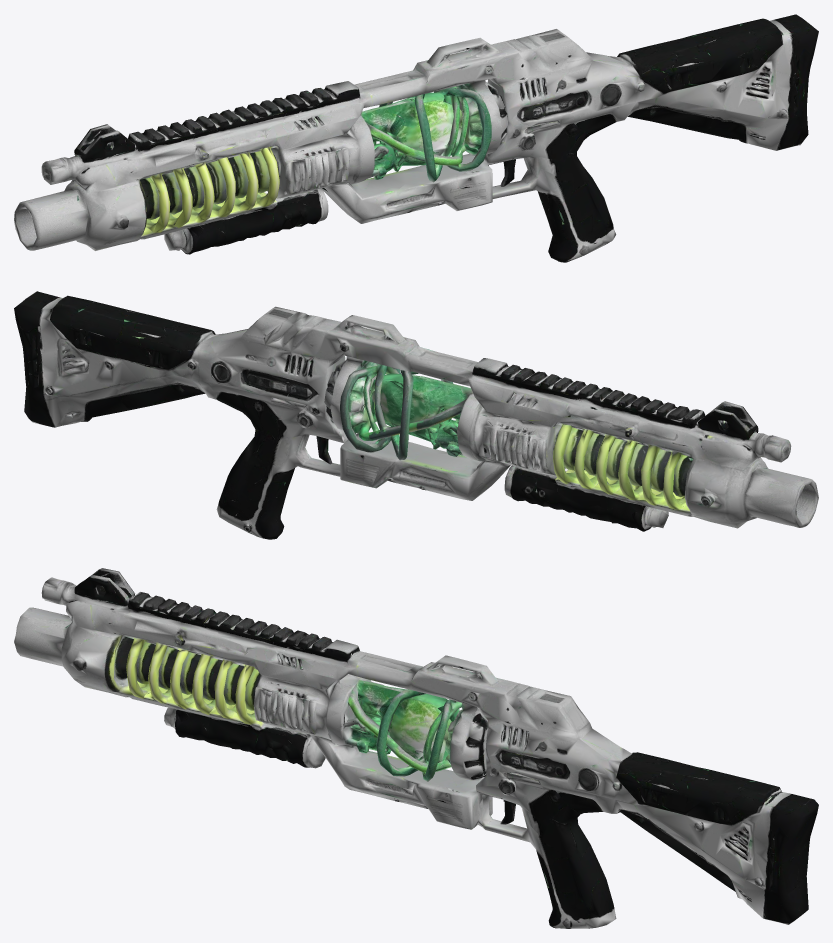
The model's file is gun_raygun.glb.
3 renders of one model, top to bottom at view 1: azimuth 30°, elevation 25°; view 2: azimuth 150°, elevation 25°; view 3: azimuth 330°, elevation 25°, orthographic.
Bounding box in the file's own units: 1.9 × 0.556 × 0.2369.
1 material, 1 textured.
